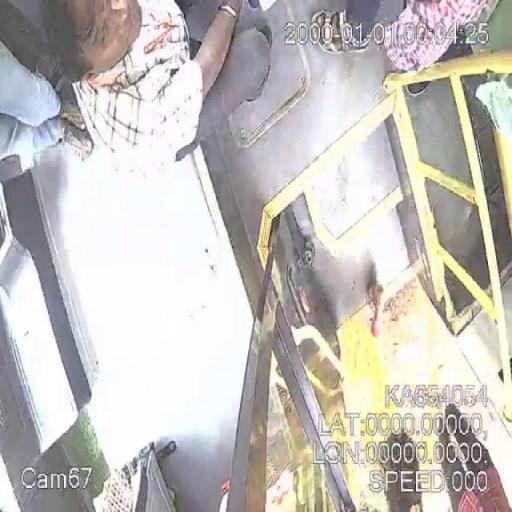persona: (1, 0, 245, 179), (414, 373, 502, 512)
